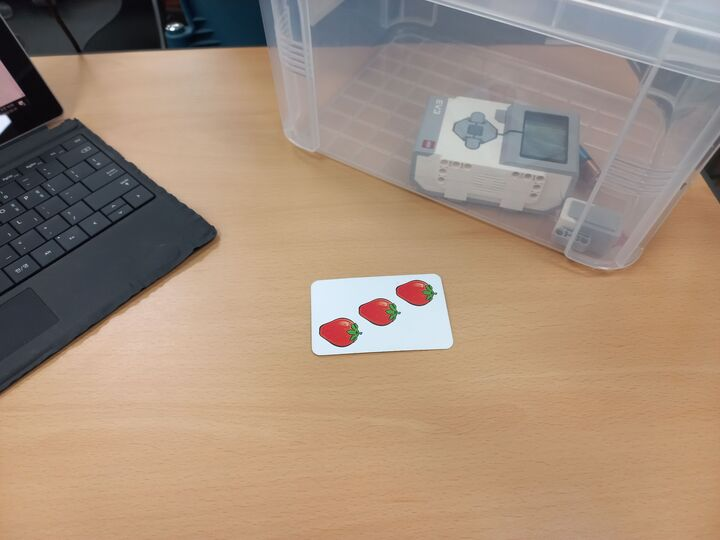strawberry3: (308, 272, 454, 357)
